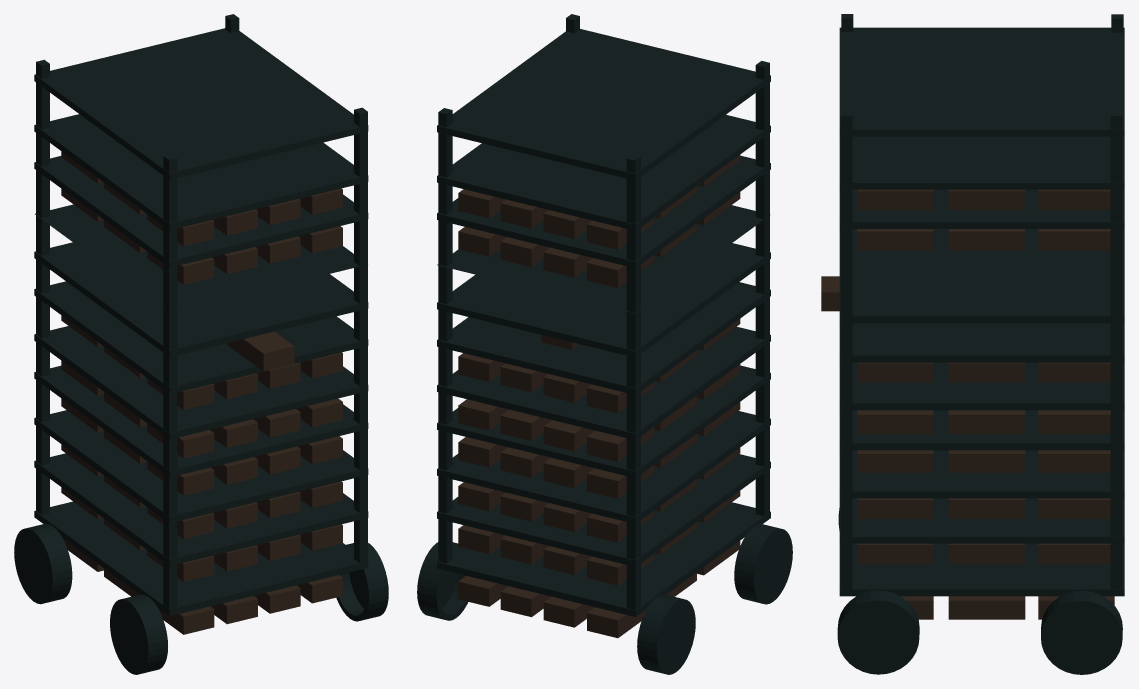
File: stockage2test.obj
3 views of the same model, side by side, from view 1: azimuth 30°, elevation 25°; view 2: azimuth 150°, elevation 25°; view 3: azimuth 270°, elevation 25° (orthographic). The views are drawn at different scales.
Parts seen in each view (by area): view 1: Cube.14144_Cube.14198, Cube.14139_Cube.14193, Cube.14135_Cube.14189, Cube.14138_Cube.14192, Cube.14141_Cube.14195, Cube.14137_Cube.14191, Cube.14143_Cube.14197, Cube.14136_Cube.14190, Cube.14140_Cube.14194, Cube.14142_Cube.14196; view 2: Cube.14144_Cube.14198, Cube.14139_Cube.14193, Cube.14135_Cube.14189, Cube.14138_Cube.14192, Cube.14141_Cube.14195, Cube.14137_Cube.14191, Cube.14143_Cube.14197, Cube.14136_Cube.14190, Cube.14140_Cube.14194; view 3: Cube.14144_Cube.14198, Cube.14139_Cube.14193, Cube.14138_Cube.14192, Cube.14141_Cube.14195, Cube.14137_Cube.14191, Cube.14140_Cube.14194, Cube.14136_Cube.14190, Cube.14143_Cube.14197, Cube.14135_Cube.14189, Cube.14142_Cube.14196.
Part boxes in pixels (x1,y1,x2,y2): Cube.14144_Cube.14198: (14, 14, 388, 674); Cube.14139_Cube.14193: (61, 360, 342, 458); Cube.14135_Cube.14189: (63, 538, 342, 634); Cube.14138_Cube.14192: (61, 398, 342, 495); Cube.14141_Cube.14195: (61, 189, 342, 284); Cube.14137_Cube.14191: (61, 444, 342, 539); Cube.14143_Cube.14197: (61, 151, 342, 246); Cube.14136_Cube.14190: (61, 487, 342, 581); Cube.14140_Cube.14194: (61, 315, 342, 409); Cube.14142_Cube.14196: (227, 331, 294, 371); Cube.14144_Cube.14198: (417, 14, 792, 674); Cube.14139_Cube.14193: (458, 364, 740, 461); Cube.14135_Cube.14189: (458, 541, 740, 638); Cube.14138_Cube.14192: (458, 402, 740, 498); Cube.14141_Cube.14195: (458, 192, 740, 287); Cube.14137_Cube.14191: (458, 448, 740, 542); Cube.14143_Cube.14197: (458, 155, 740, 249); Cube.14136_Cube.14190: (458, 491, 740, 585); Cube.14140_Cube.14194: (458, 319, 740, 413); Cube.14144_Cube.14198: (837, 14, 1124, 674); Cube.14139_Cube.14193: (857, 410, 1110, 433); Cube.14138_Cube.14192: (857, 450, 1110, 472); Cube.14141_Cube.14195: (857, 229, 1110, 250); Cube.14137_Cube.14191: (857, 498, 1110, 518); Cube.14140_Cube.14194: (857, 362, 1110, 382); Cube.14136_Cube.14190: (857, 543, 1110, 563); Cube.14143_Cube.14197: (857, 189, 1110, 209); Cube.14135_Cube.14189: (901, 596, 1114, 619); Cube.14142_Cube.14196: (821, 276, 839, 311).
Size of the model in its own units: 1.33 by 2.74 by 1.37.
